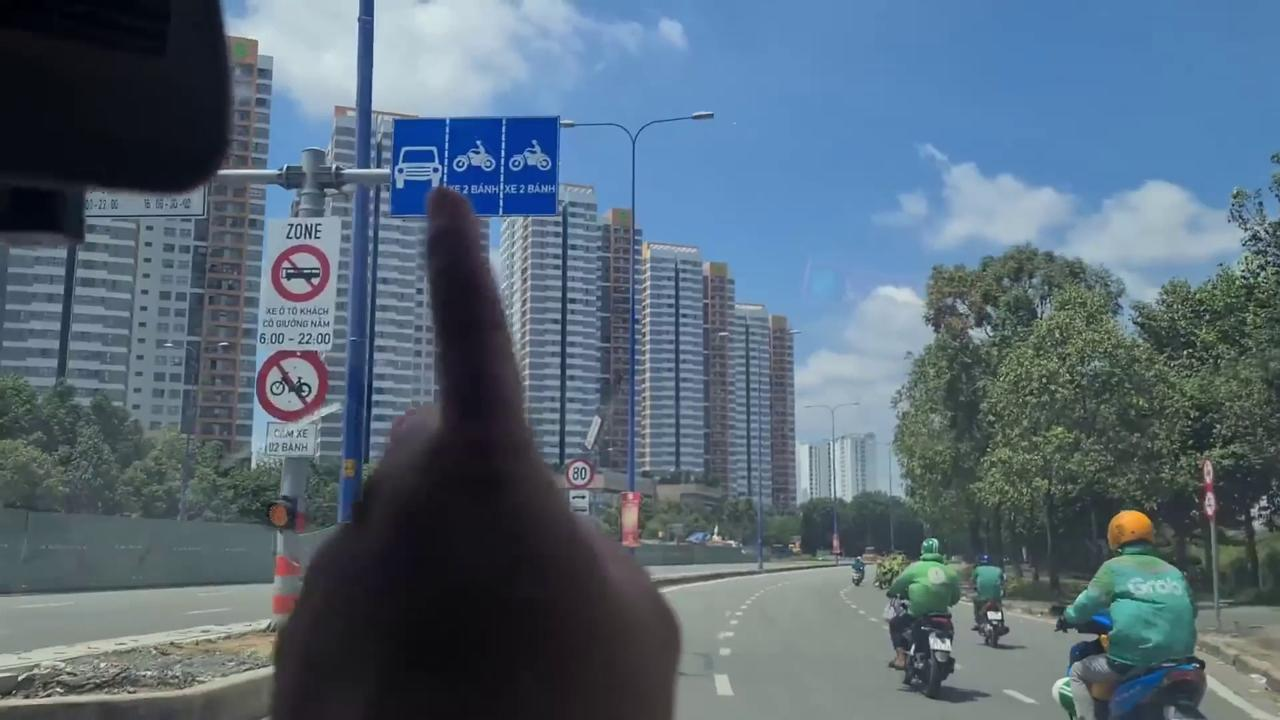Biển phụ: (263, 418, 319, 462), (569, 489, 589, 519)
Cấm cac phương tiện hoạt động trong khung giờ cố định: (261, 215, 337, 351)
Cấm xe máy: (255, 348, 328, 425)
Giới hạn tốc độ 80Km/h: (566, 458, 595, 490)
Làn đường cho từng xe: (386, 114, 562, 220)
